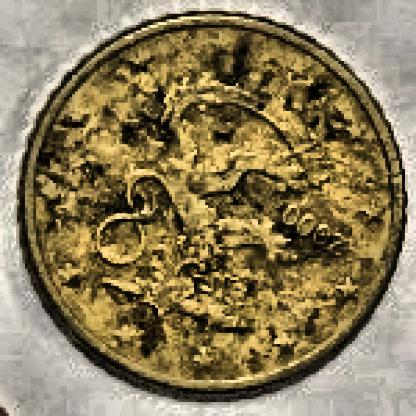coin: (19, 11, 404, 402)
